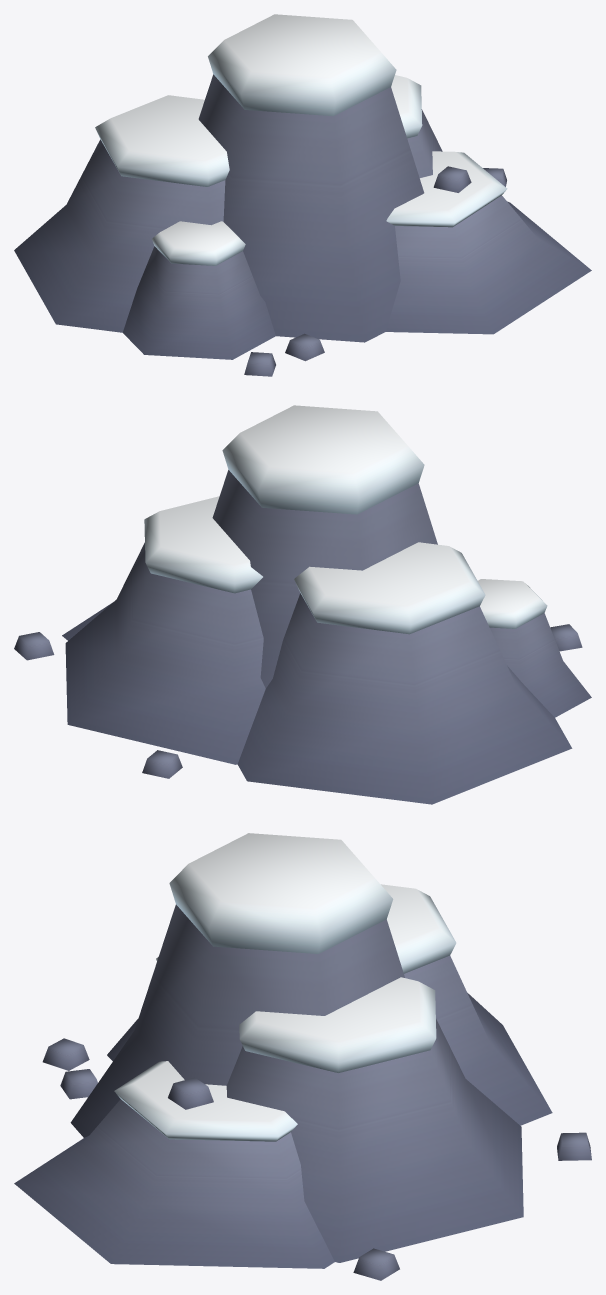
Rendered from kenney-holiday-rocks-medium.glb.
3 renders of one model, top to bottom at view 1: azimuth 30°, elevation 25°; view 2: azimuth 150°, elevation 25°; view 3: azimuth 270°, elevation 25°, orthographic. The views are drawn at different scales.
Visible parts, largest first — view 1: rocks-medium; view 2: rocks-medium; view 3: rocks-medium.
Part boxes in pixels (x1=…): rocks-medium: x1=14, y1=14, x2=591, y2=376; rocks-medium: x1=14, y1=405, x2=591, y2=804; rocks-medium: x1=14, y1=833, x2=591, y2=1280.
Bounding box in the file's own units: 1.98 × 0.8785 × 1.72.
Materials: 1 (1 with a texture image).
